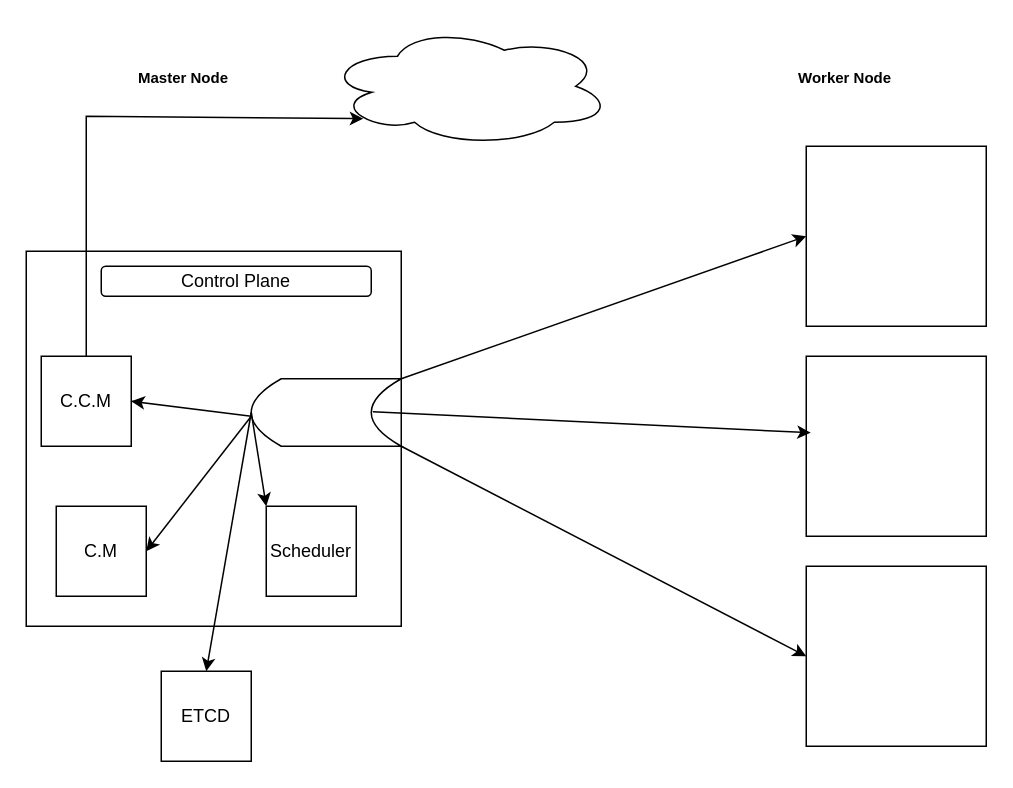
Image size: 1013x788. Some labels were removed from this diagram. The shapes that lost their labels are listed below. From the top down, each one's centre as x and y in pixels, then its label:
(468,85): Cloud API Provider Cli
(325,411): API Server
